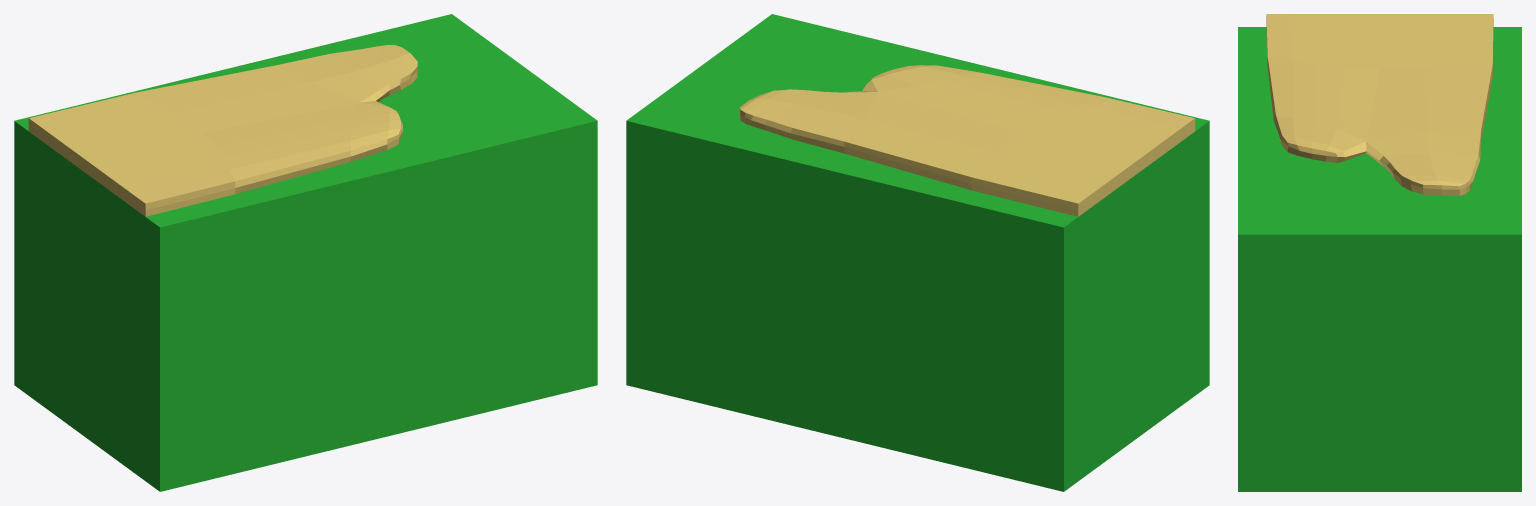
File: tile-infrastructure-pathway_ending_edge.glb
The picture shows the model from 3 angles, left to right: view 1: azimuth 30°, elevation 25°; view 2: azimuth 150°, elevation 25°; view 3: azimuth 270°, elevation 25°; orthographic projection. The views are drawn at different scales.
Visible parts, largest first — view 1: tile-infrastructure-pathway_ending_edge; view 2: tile-infrastructure-pathway_ending_edge; view 3: tile-infrastructure-pathway_ending_edge.
Part boxes in pixels (<box>): tile-infrastructure-pathway_ending_edge: <box>14,14,597,491</box>; tile-infrastructure-pathway_ending_edge: <box>626,14,1209,491</box>; tile-infrastructure-pathway_ending_edge: <box>1238,14,1521,491</box>.
Bounding box in the file's own units: 0.866 × 0.525 × 0.5.
